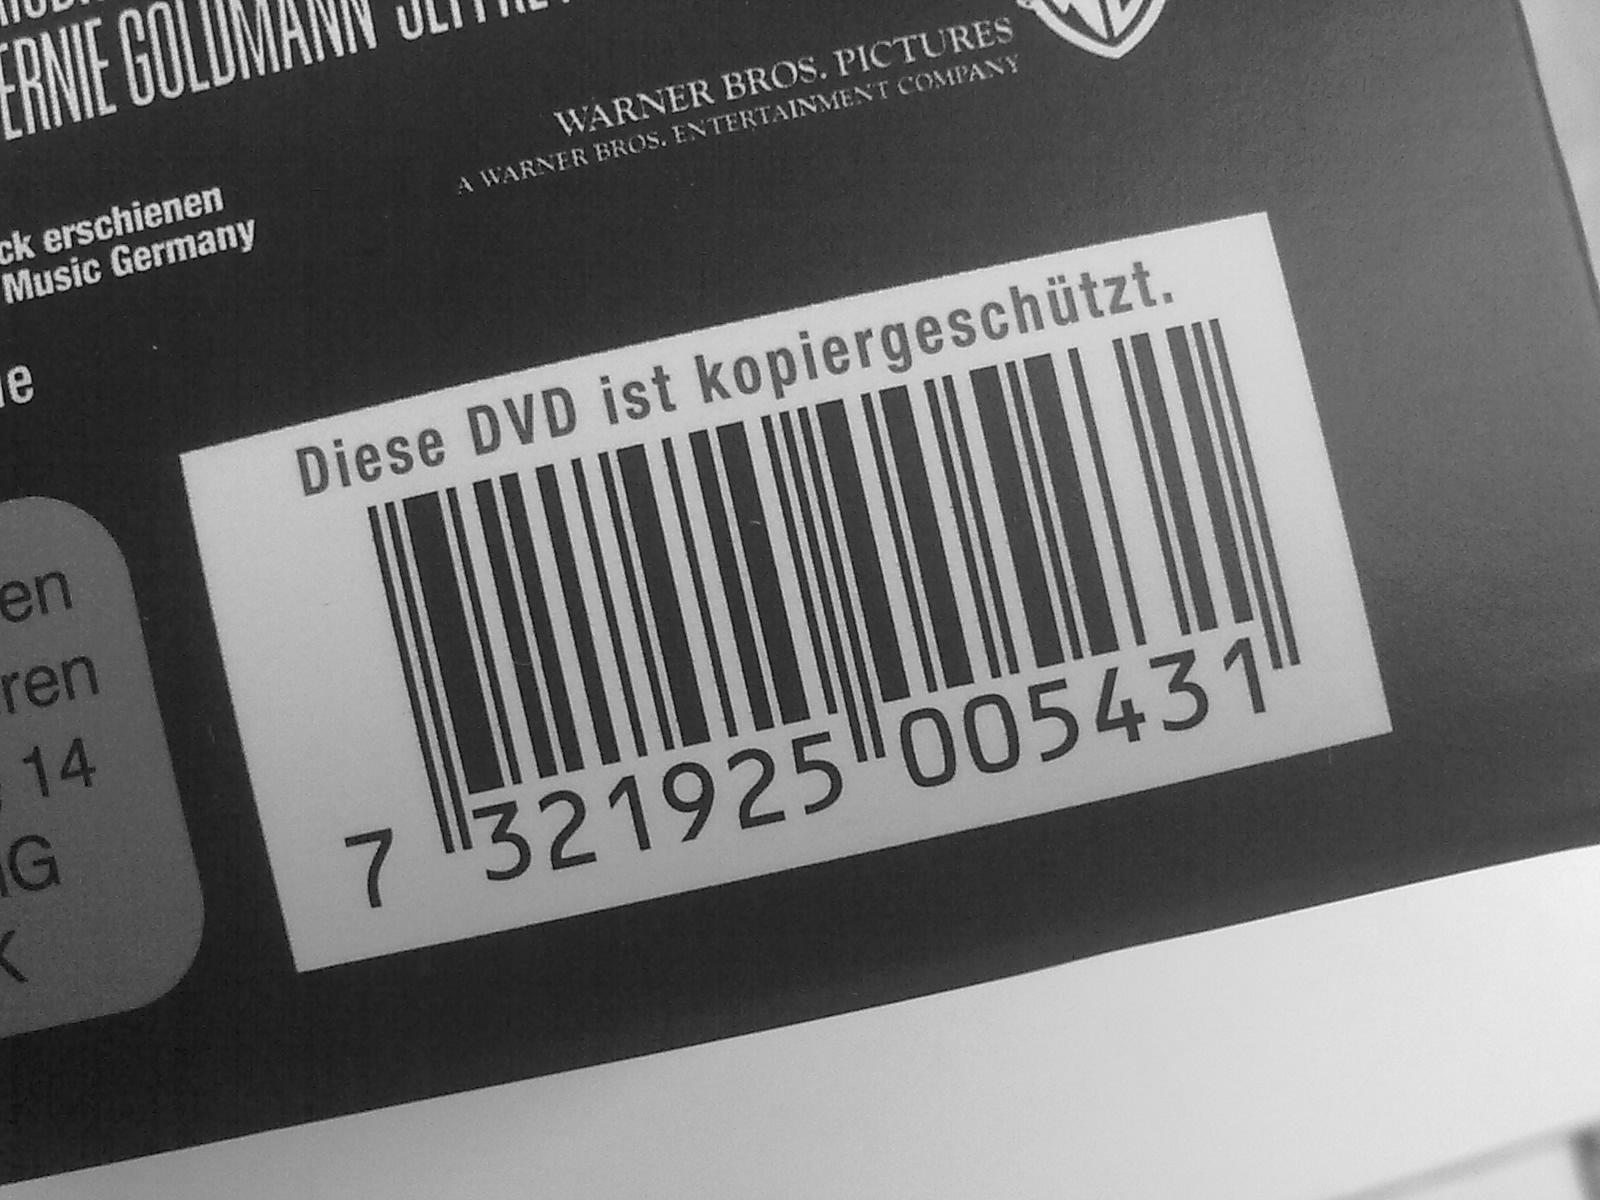Barcode: (203, 379, 1351, 788)
